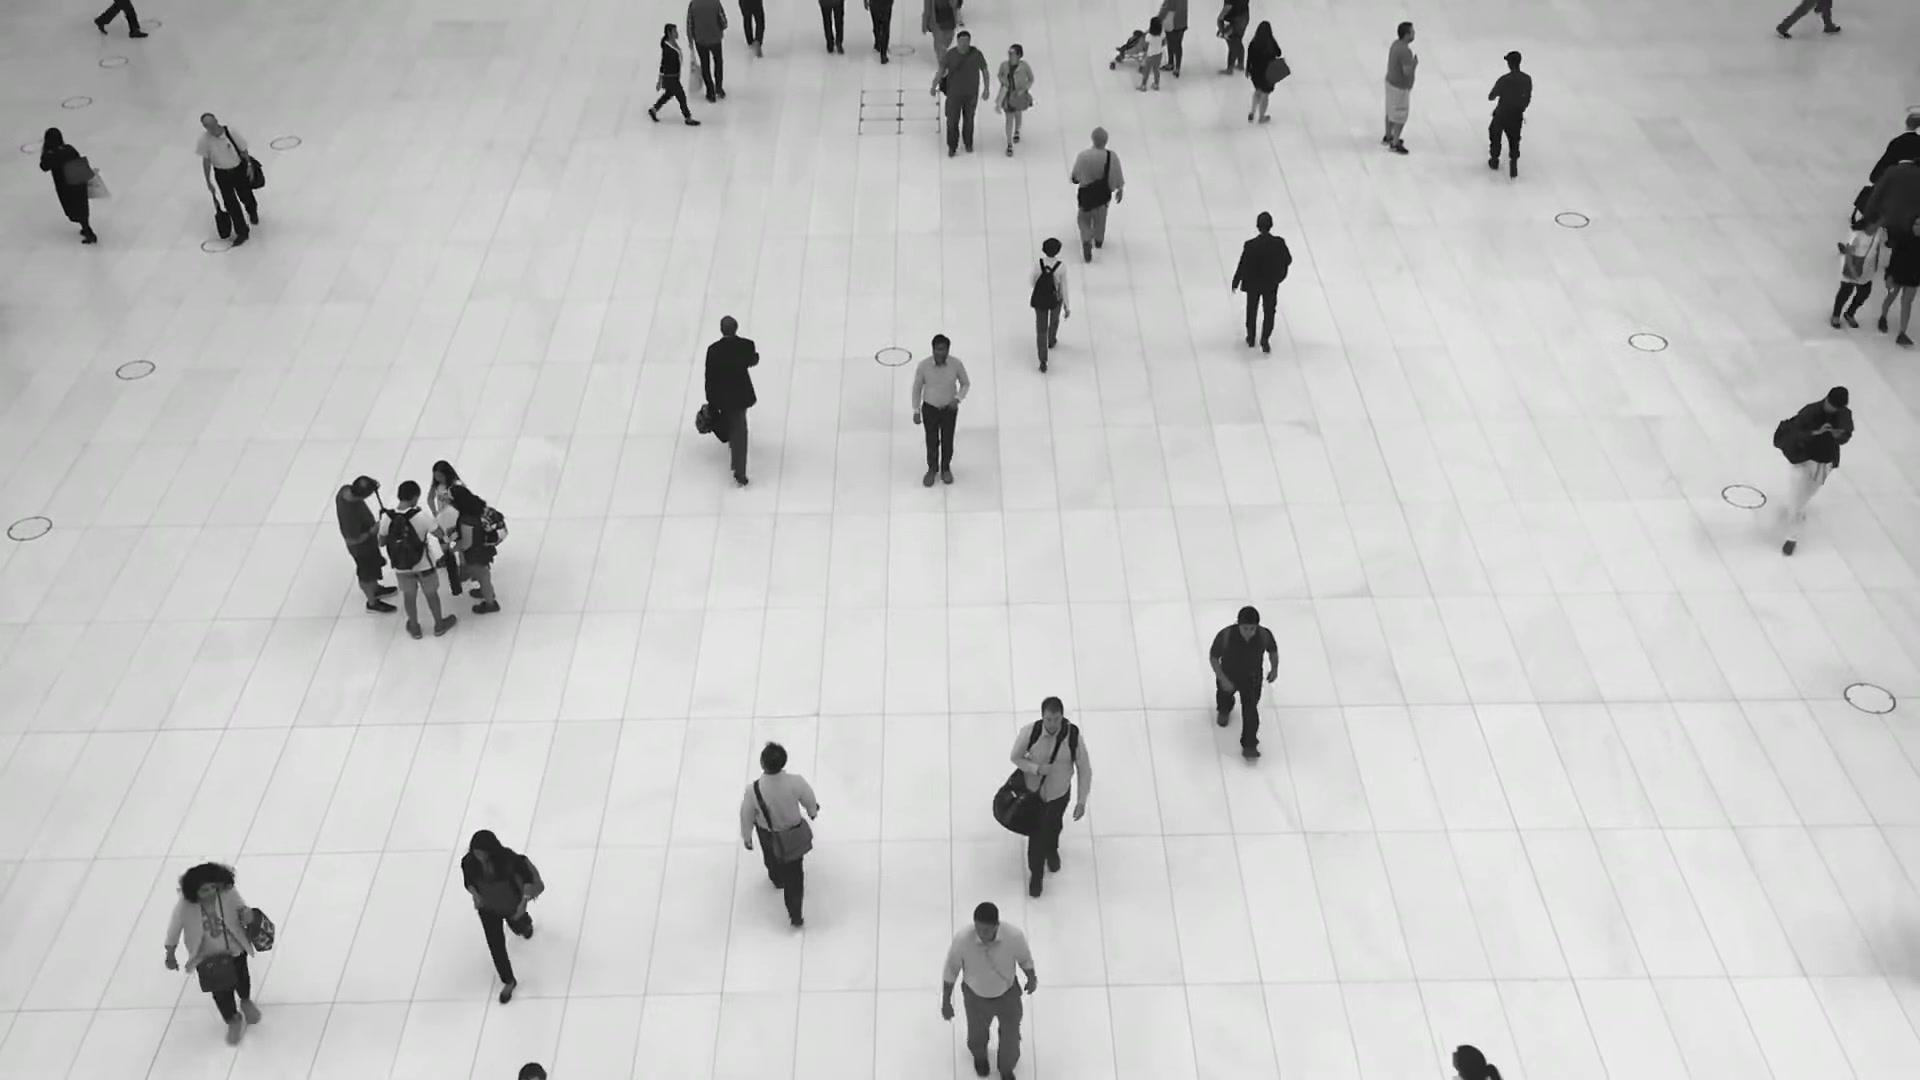person: (165, 864, 265, 1047), (941, 903, 1041, 1080), (739, 738, 821, 928), (1007, 698, 1089, 887), (461, 829, 534, 1013), (377, 478, 459, 638), (1778, 385, 1854, 556), (1206, 604, 1280, 758), (702, 313, 761, 485), (910, 335, 969, 493), (335, 467, 400, 612), (1233, 212, 1293, 362), (195, 113, 260, 249), (1068, 126, 1125, 266), (931, 30, 990, 156), (39, 126, 98, 247), (449, 482, 501, 613), (1830, 209, 1885, 332), (1485, 50, 1534, 182), (1027, 235, 1071, 374), (650, 23, 707, 126), (1381, 20, 1419, 154), (684, 0, 729, 104), (426, 459, 464, 580), (994, 42, 1035, 155), (1241, 20, 1283, 127), (1136, 16, 1165, 91)
